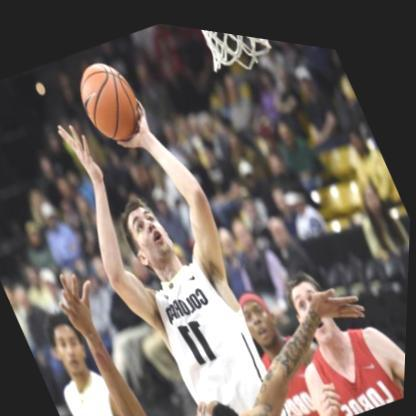basketball: (67, 46, 152, 148)
